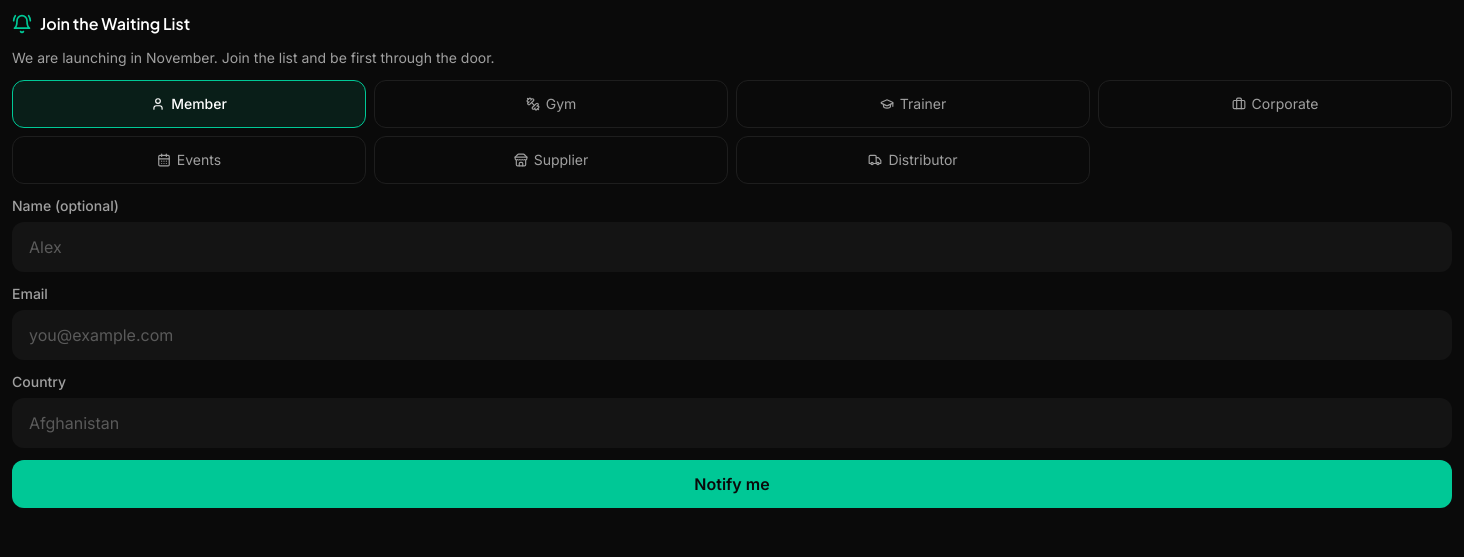
it: WaitlistForm › shows error message on failure
Type "a@b.c" into the field with placeholder "you@example.com".
click(732, 335); type("a@b.c")  # box x1=12 y1=310 x2=1452 y2=360
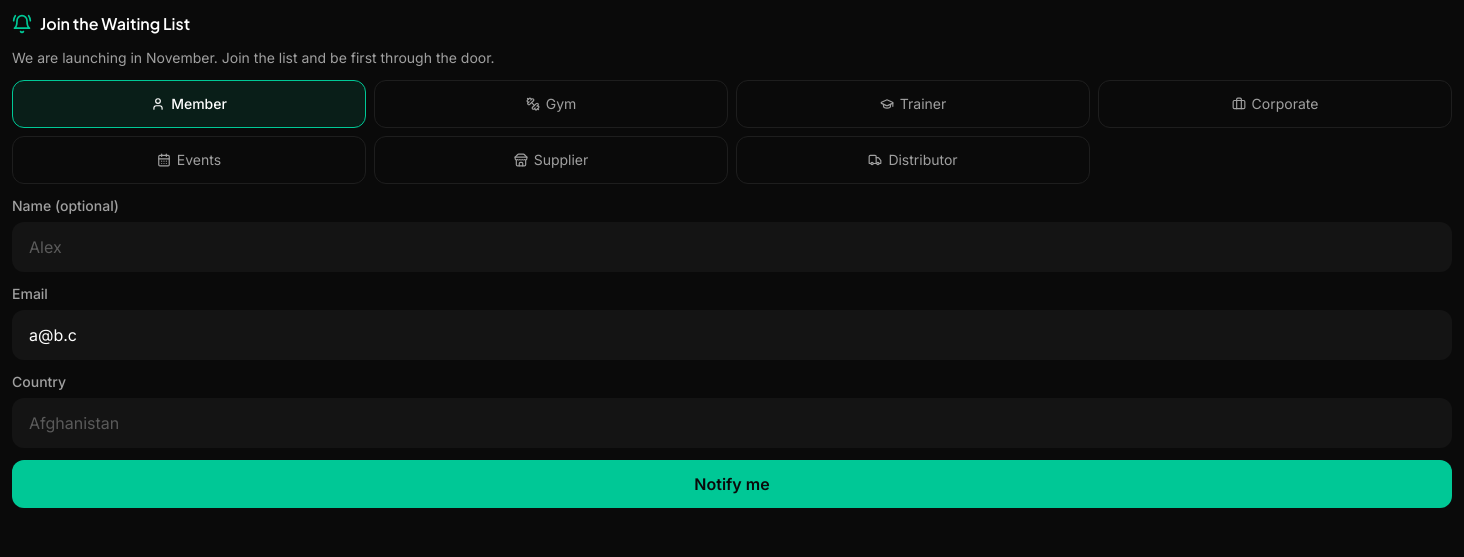
Click the button "Notify me".
click(732, 484)  # box x1=12 y1=460 x2=1452 y2=508
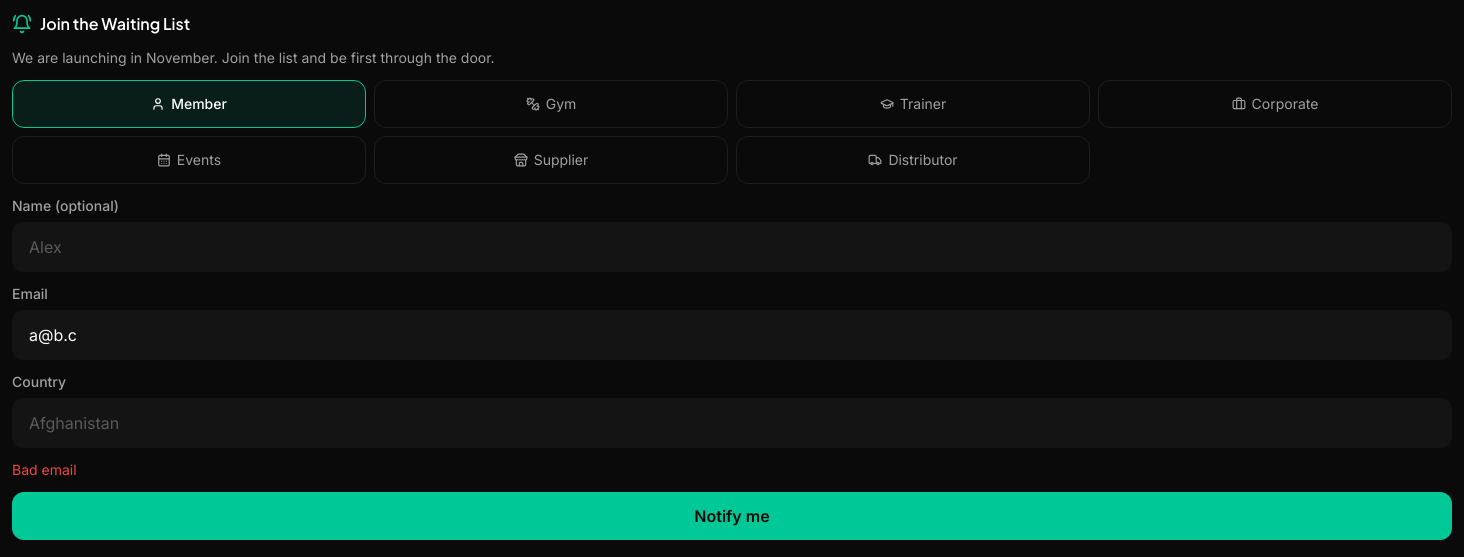
Expected: the message "Bad email" is shown, x1=12 y1=461 x2=77 y2=478
